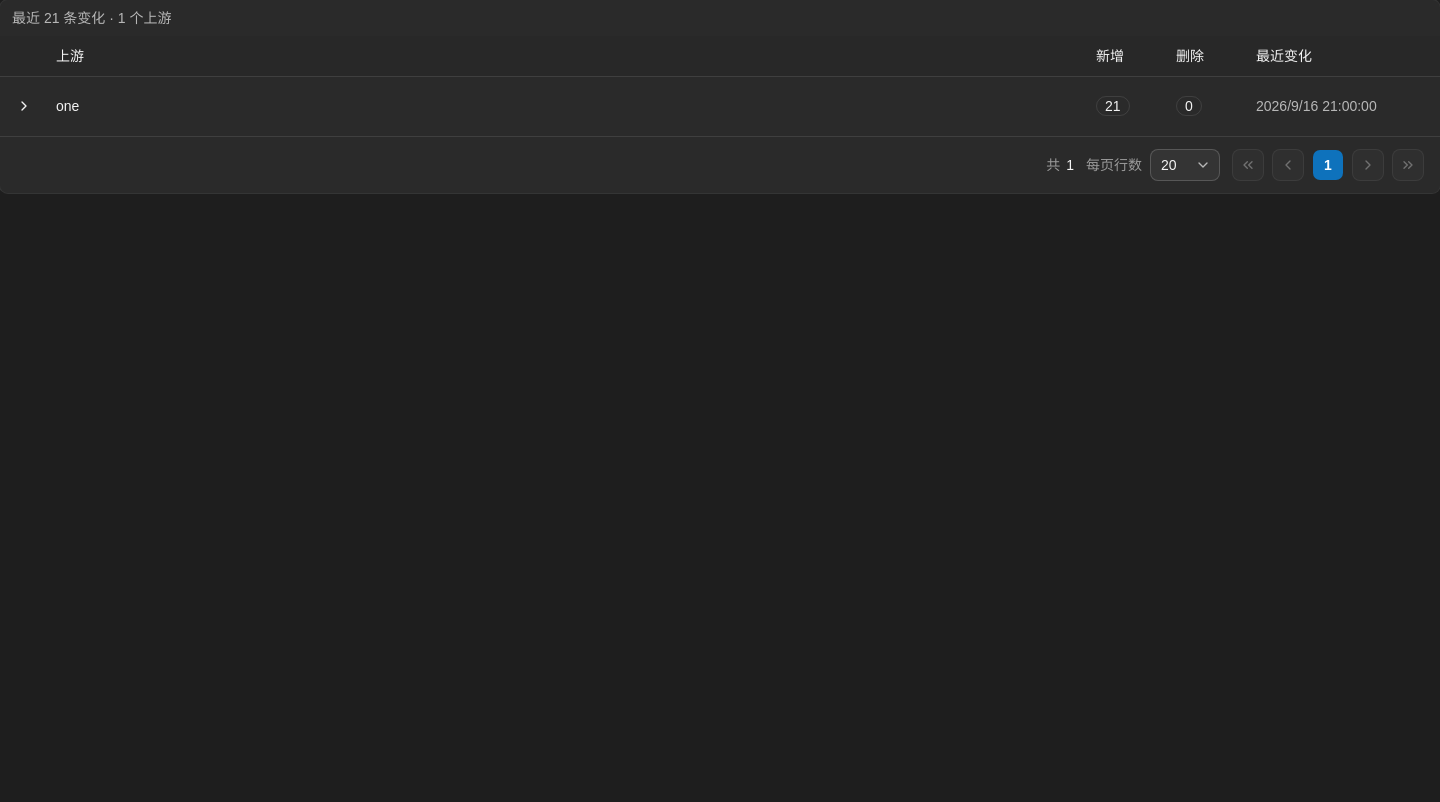
Test case: 超过一页的同一上游变化先聚合再分页，记录不拆散
Expected: the number of rows is 2, 0,36 -> 1439,76; 0,76 -> 1439,136
Expected: the button named "转到下一页" is disabled, 1352,149 -> 1384,181
Click the button named "展开 one 的变化明细" at (24, 106), box 8,90 -> 40,122
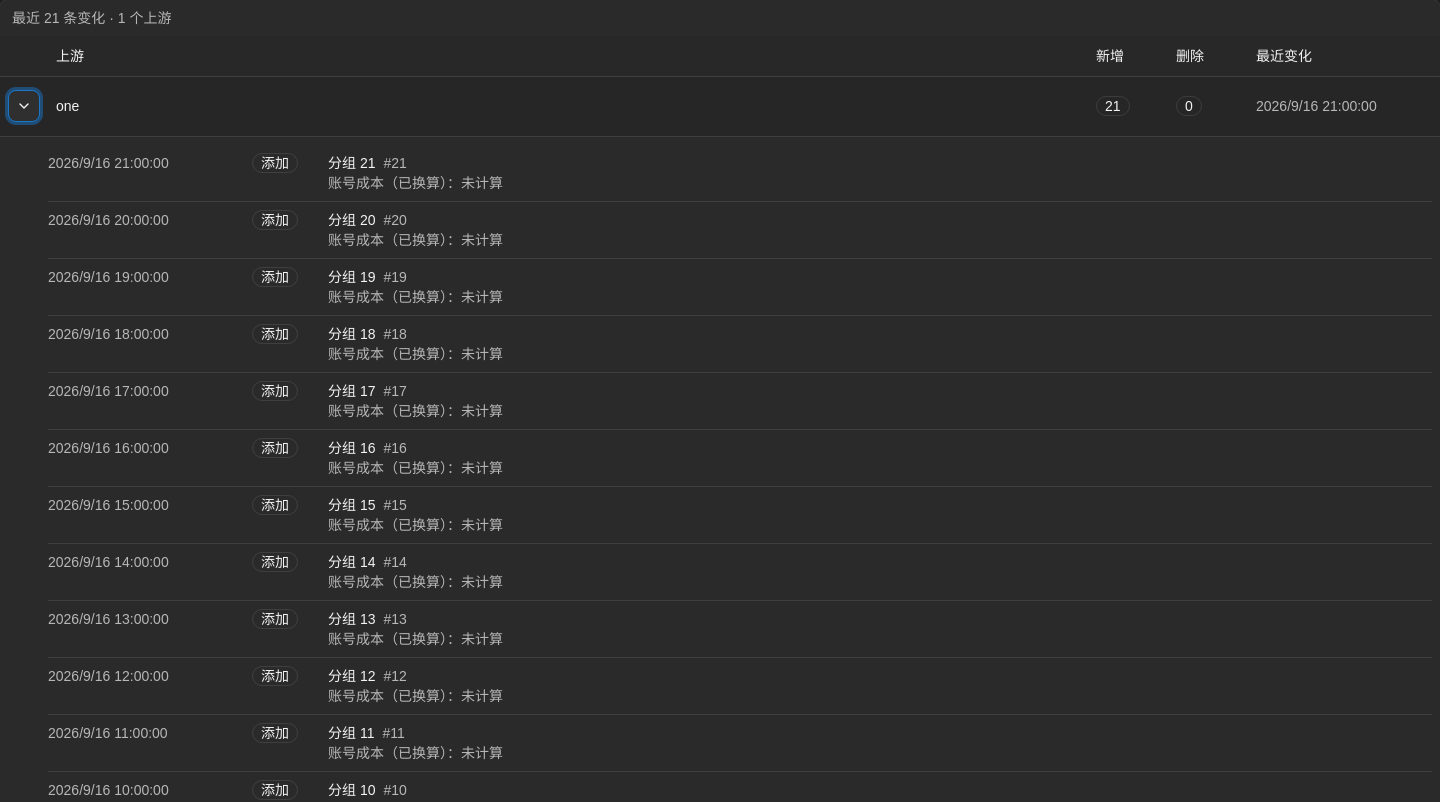
Now the number of list items is 21
